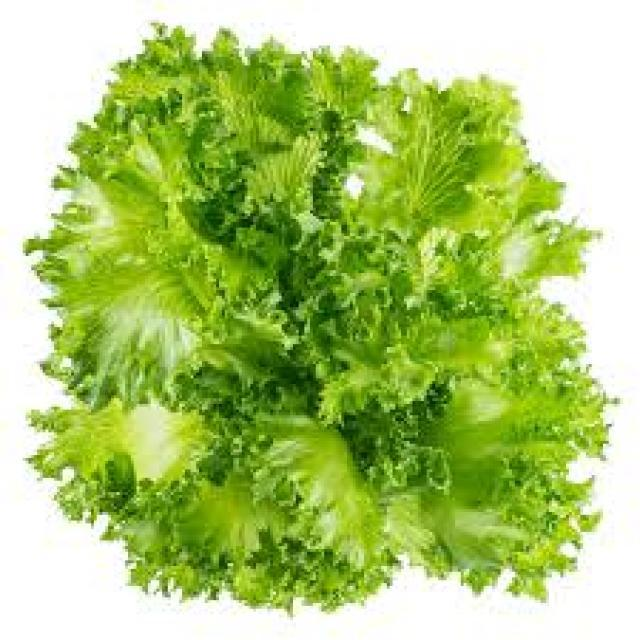Lettuce: (42, 20, 590, 607)
